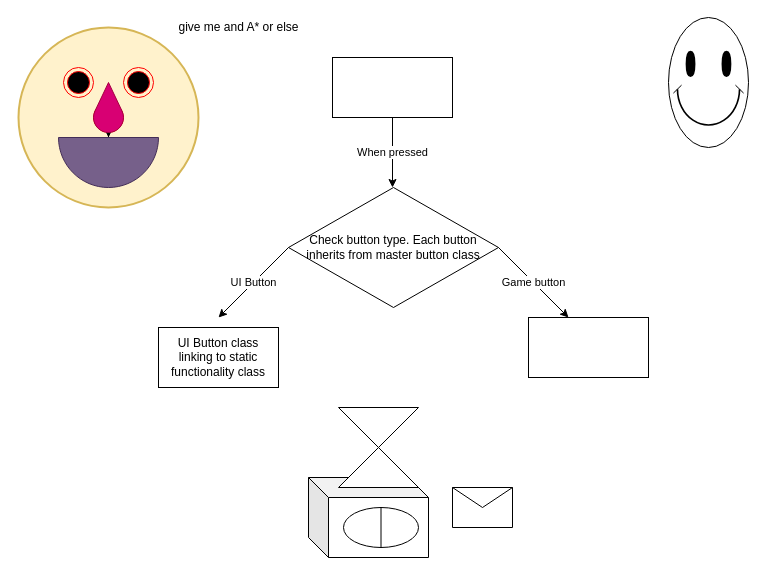
Image size: 766x575. Some labels were removed from this diagram. The centre of each missing label's shape, as x and y in pixels:
Abstract Button Class: [392,87]
Master game button class: [588,347]
